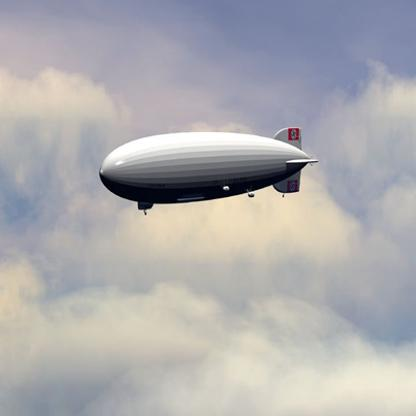Airship: (95, 127, 319, 214)
